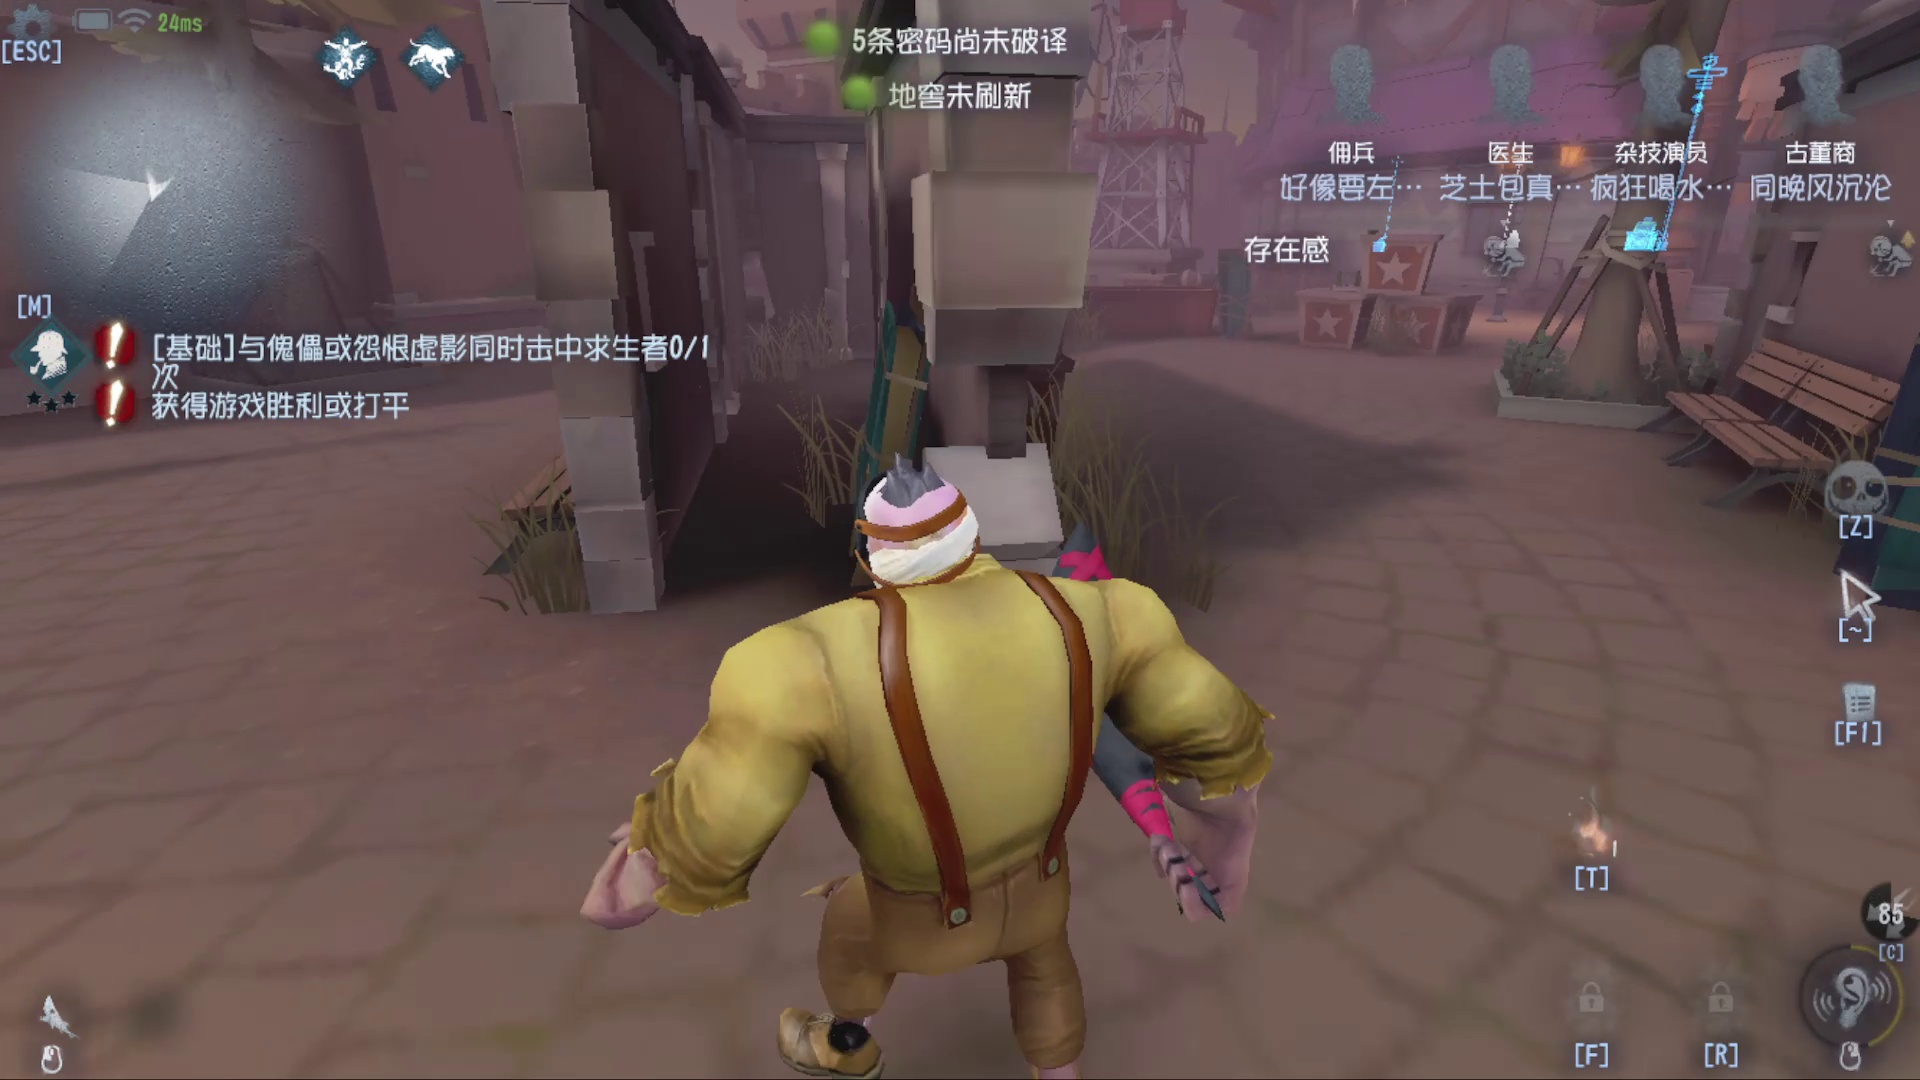密码机: (1614, 46, 1739, 276), (1373, 146, 1424, 265)
木板: (794, 281, 935, 589), (1209, 243, 1262, 343)
